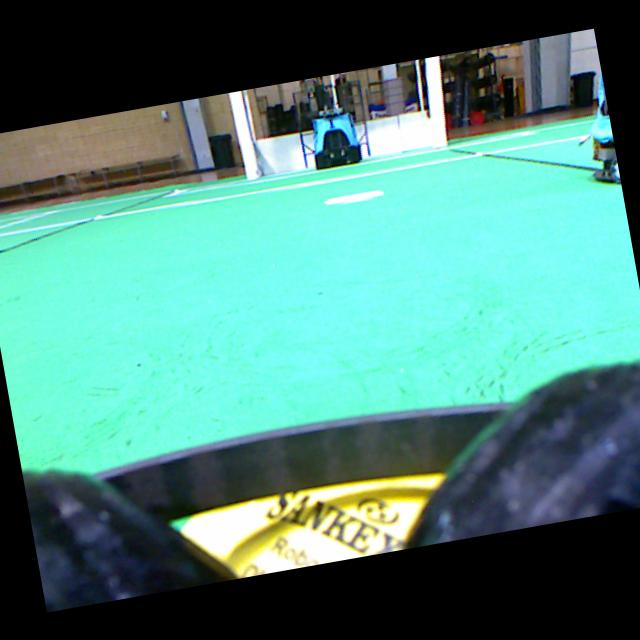ball: (171, 473, 445, 578)
goal: (228, 90, 257, 179), (424, 56, 446, 147)
